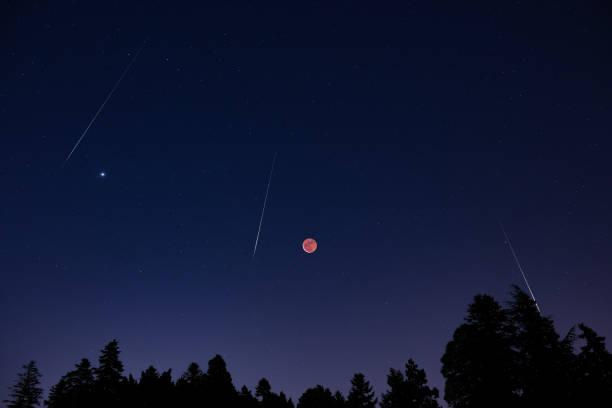meteor: (528, 301, 549, 319), (63, 145, 78, 161), (247, 246, 265, 259)
